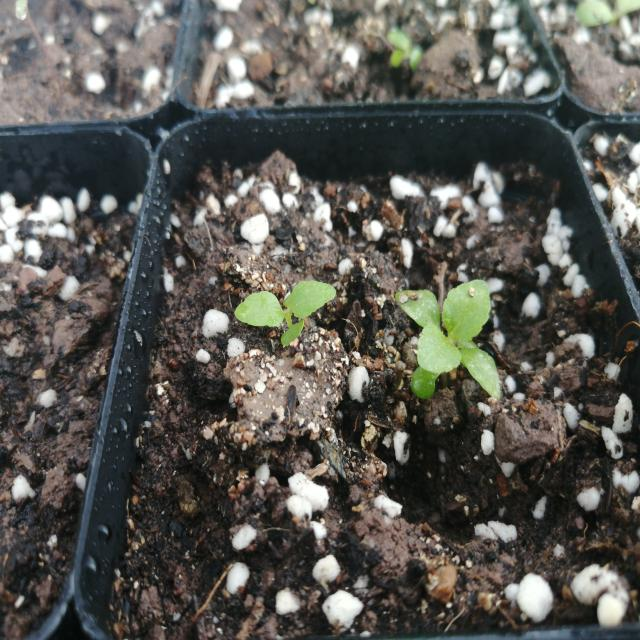billygoat_weed: (396, 266, 520, 412), (230, 258, 338, 358)
